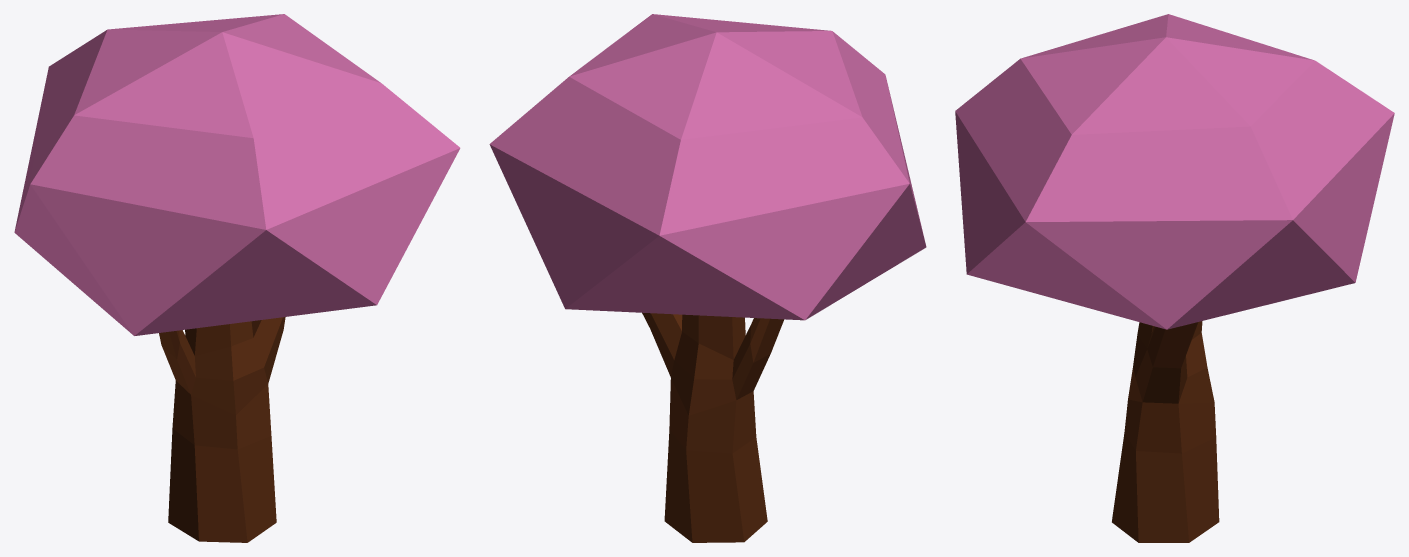
The model's file is CherryBlossomTree3.fbx.
3 renders of one model, left to right at view 1: azimuth 30°, elevation 25°; view 2: azimuth 150°, elevation 25°; view 3: azimuth 270°, elevation 25°, orthographic.
Parts seen in each view (by area): view 1: Cylinder; view 2: Cylinder; view 3: Cylinder.
Part boxes in pixels (box(x1,y1,x2,y2)): Cylinder: box(14, 14, 460, 542); Cylinder: box(489, 14, 926, 542); Cylinder: box(955, 14, 1394, 542).
Bounding box in the file's own units: 5.56 × 7.11 × 5.83.
